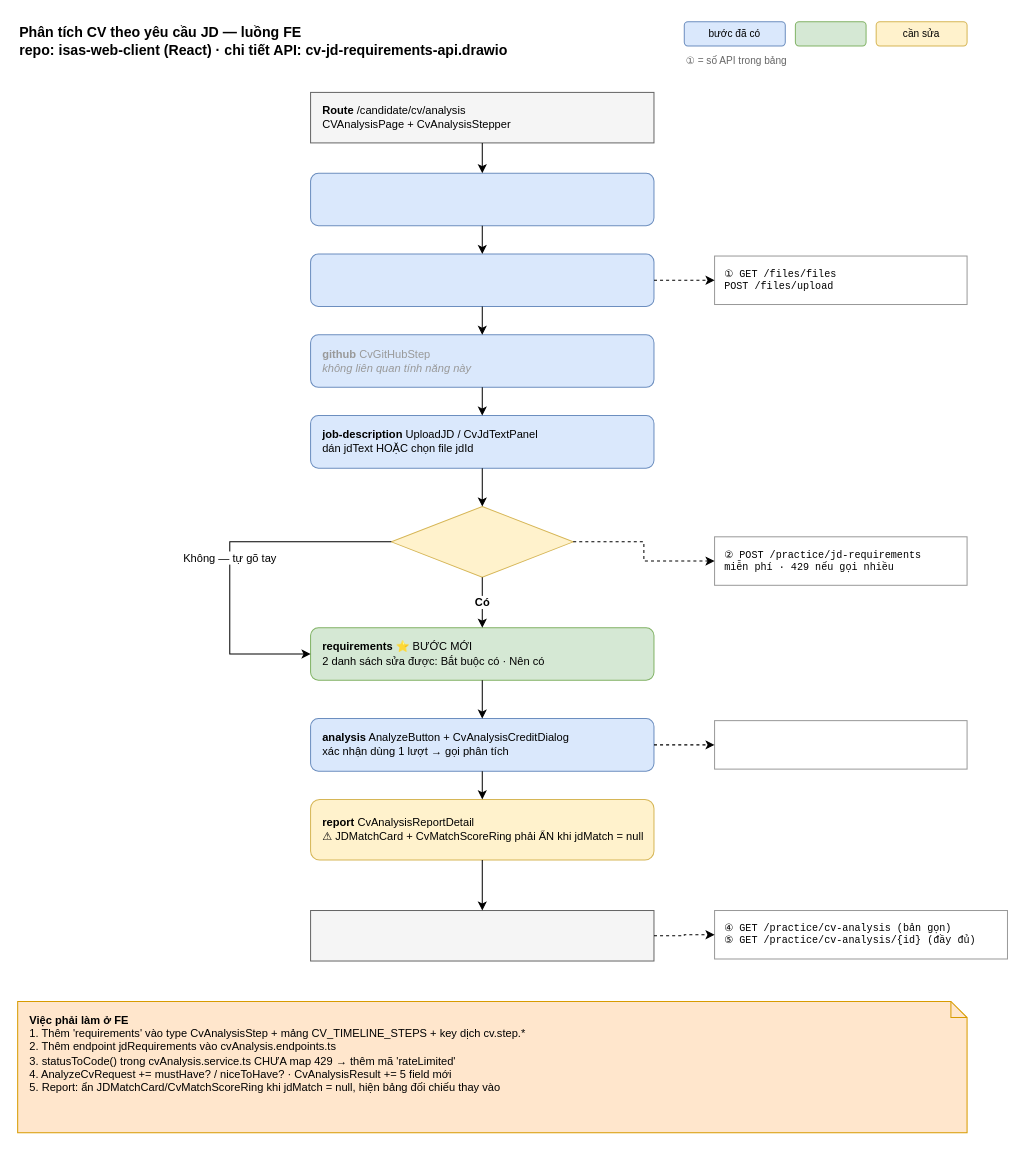
The diagram is 1025 pixels wide and 1150 high, and some of its shapes have lost their labels. Here are the shapes that lost their labels. From the top down, the box of each, then its label:
(794, 21, 866, 46): MỚI
(310, 172, 654, 226): domain CvDomainStep chọn BA / BE / FE → jobCategory
(310, 253, 654, 307): upload UploadCV chọn CV có sẵn hoặc upload mới → cvId
(390, 506, 573, 577): Nhờ AI tách JD?
(714, 720, 967, 769): ③ POST /practice/cv-analysis TRỪ 1 CREDIT
(310, 910, 654, 961): Route /candidate/cv/analysis/report CVResultPage — lịch sử + xem lại
